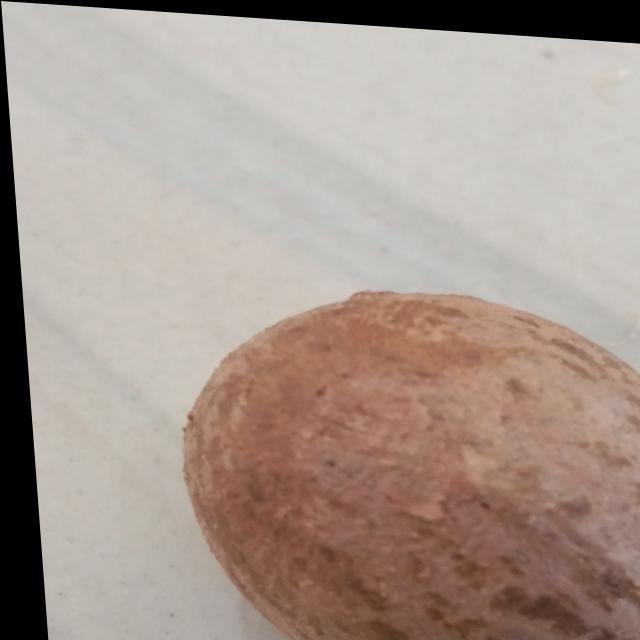karigot: (143, 246, 640, 640)
